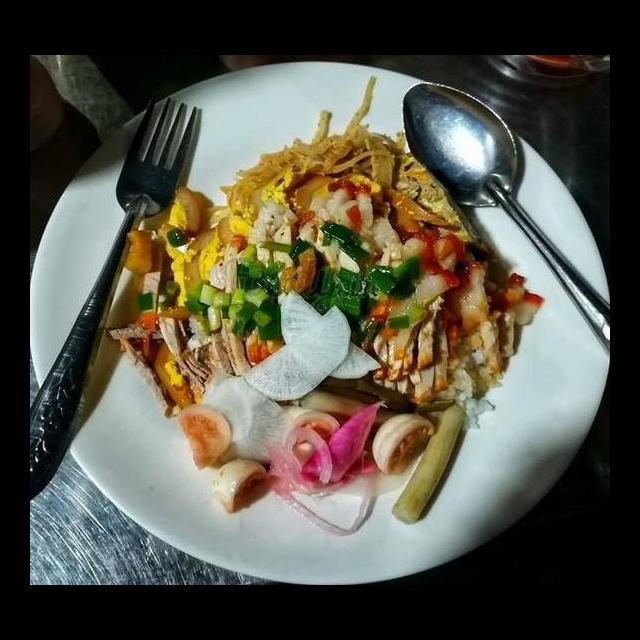bi: (215, 72, 425, 218)
com: (434, 328, 508, 435)
dua chua: (190, 289, 386, 481), (363, 391, 467, 525)
suon: (103, 174, 546, 424)
trung: (155, 161, 298, 316)
